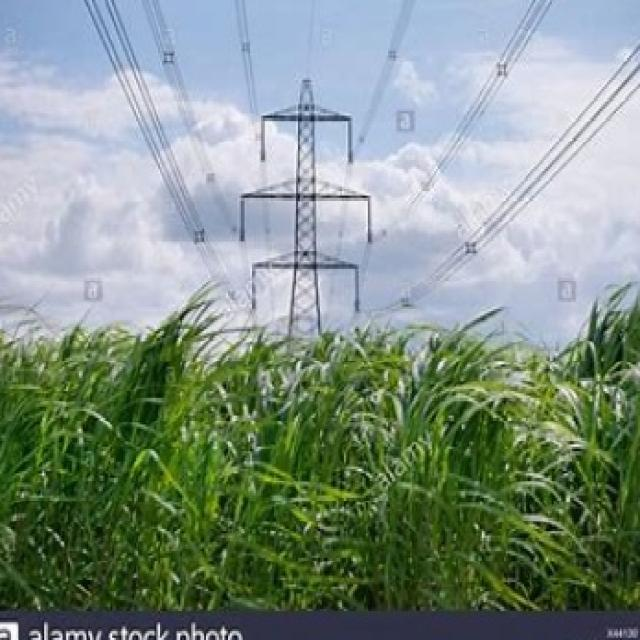utility poles: (250, 66, 361, 609)
